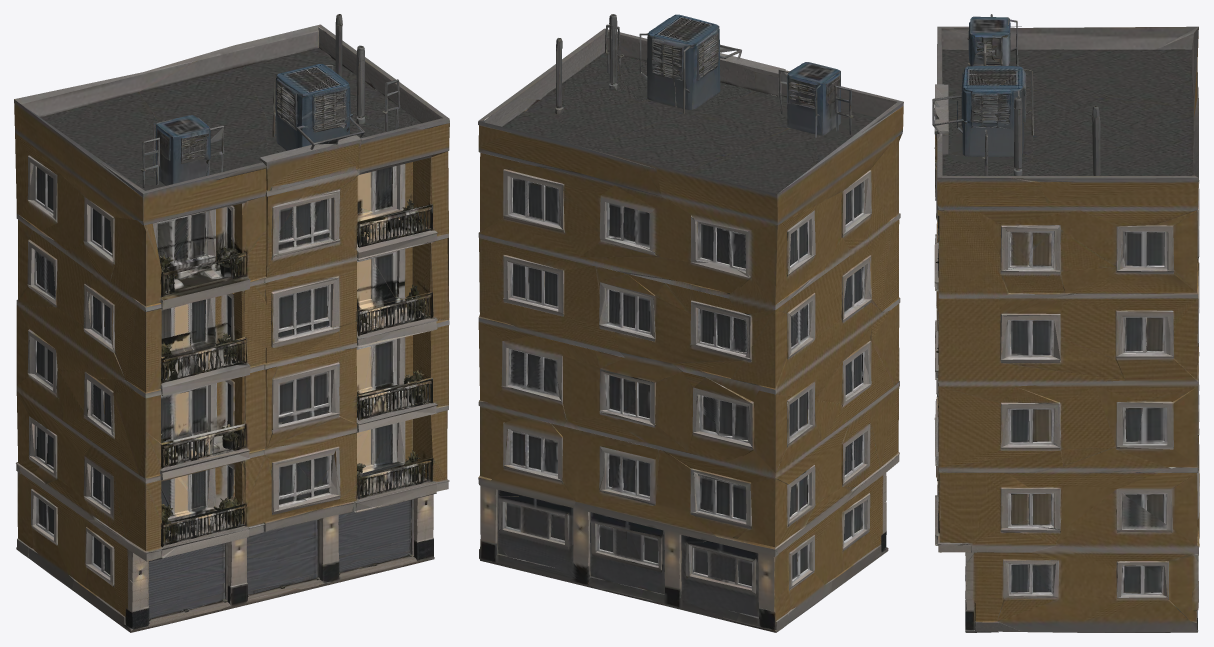
3 views of the same model, side by side, from view 1: azimuth 30°, elevation 25°; view 2: azimuth 150°, elevation 25°; view 3: azimuth 270°, elevation 25° (orthographic). The views are drawn at different scales.
Visible parts, largest first — view 1: Mesh_0; view 2: Mesh_0; view 3: Mesh_0.
Boxes of the visible parts, x1,y1,x2,y2 form: Mesh_0: [14, 14, 449, 632]; Mesh_0: [478, 14, 903, 632]; Mesh_0: [932, 14, 1199, 632].
Size of the model in its own units: 1.21 by 1.89 by 0.8976.
Materials: 1 (1 with a texture image).
